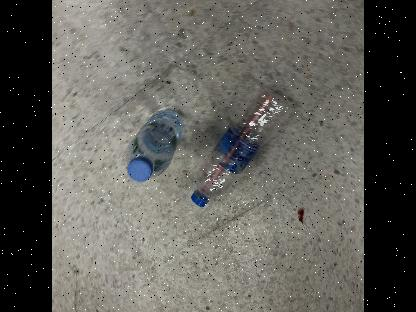Plastic Bottle: (191, 86, 296, 206), (126, 108, 184, 180)
